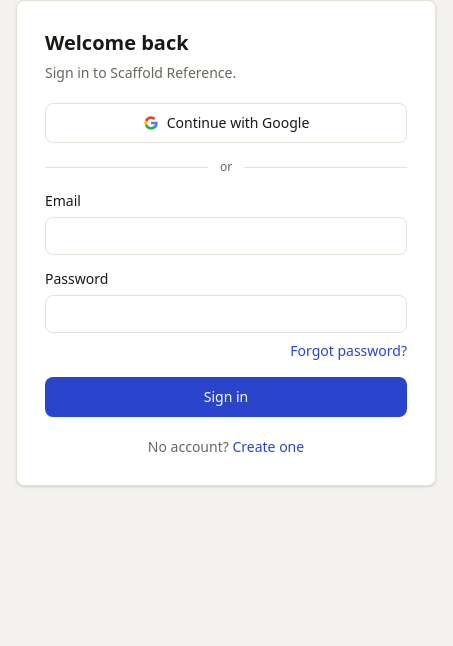
it: SignInScreen (AC1) › shows an unverified-email state when sign-in reports EMAIL_NOT_VERIFIED
Type "ada@example.com" into the field labelled "Email".
click(226, 236); type("ada@example.com")  # box [45, 217, 407, 255]
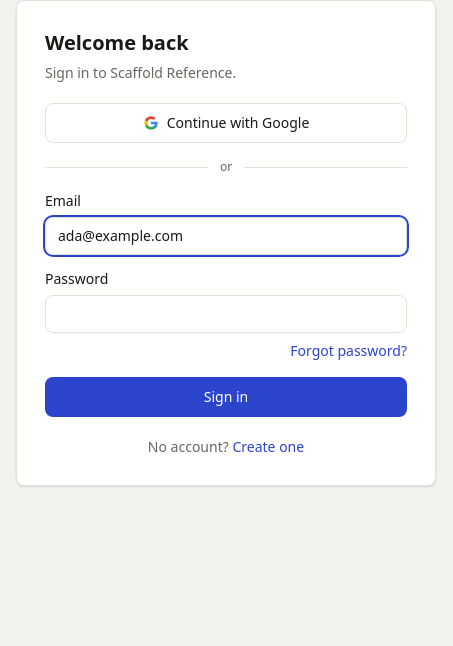
Type "correct horse" into the password field labelled "Password".
click(226, 314); type("correct horse")  # box [45, 295, 407, 333]
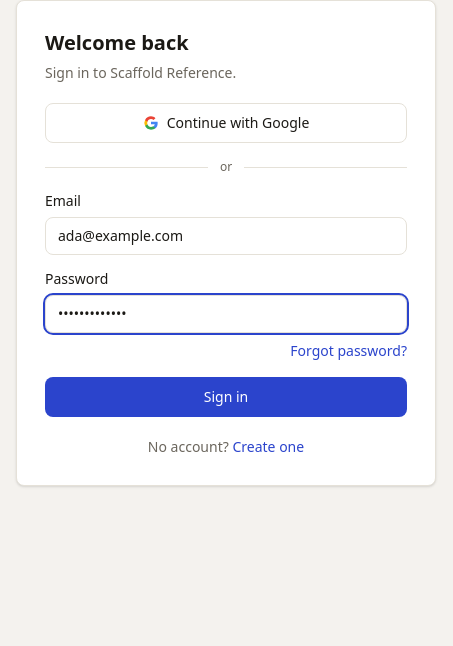
Click the button "Sign in".
click(226, 397)  # box [45, 377, 407, 417]
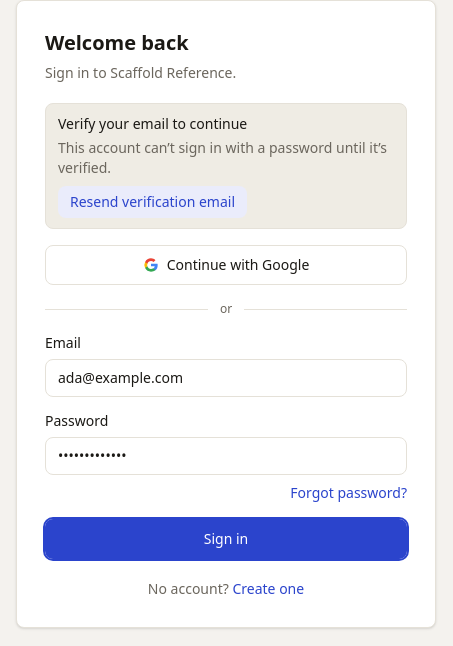
Expected: the text "Verify your email to continue" is shown, [58, 114, 247, 133]
